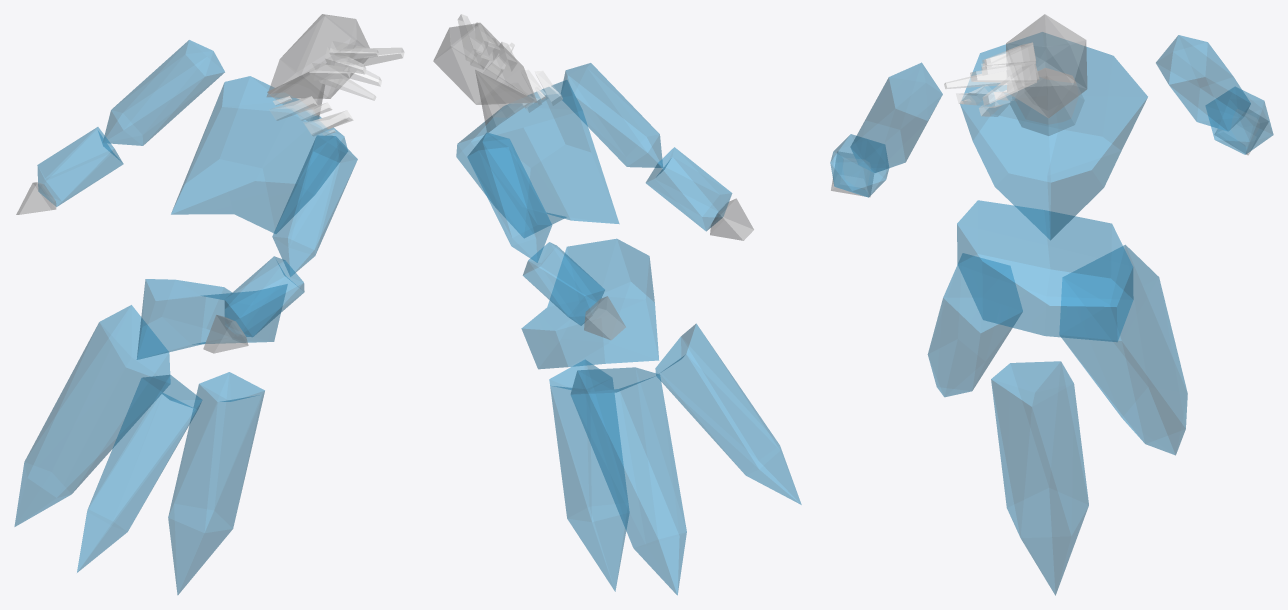
The model's file is ghostChargingLunge12.obj.
The picture shows the model from 3 angles, left to right: view 1: azimuth 30°, elevation 25°; view 2: azimuth 150°, elevation 25°; view 3: azimuth 270°, elevation 25°; orthographic projection. The views are drawn at different scales.
Visible parts, largest first — view 1: Cube.001_Cube.006, Icosphere.017, Icosphere.016, Icosphere.015, Cube_Cube.006, Icosphere.007_Icosphere.005, Icosphere.005_Icosphere.005, Icosphere.003_Icosphere.006, Icosphere.006_Icosphere.005, Icosphere.008_Icosphere.005, Cone_Cone.006, Cube.002_Cube.006 (+8 smaller); view 2: Cube.001_Cube.006, Icosphere.017, Cube_Cube.006, Icosphere.016, Icosphere.015, Icosphere.005_Icosphere.005, Icosphere.007_Icosphere.005, Icosphere.003_Icosphere.006, Icosphere.006_Icosphere.005, Icosphere.008_Icosphere.005, Cone_Cone.006, Cube.002_Cube.006 (+2 smaller); view 3: Cube.001_Cube.006, Cube_Cube.006, Icosphere.017, Icosphere.016, Icosphere.015, Icosphere.003_Icosphere.006, Icosphere.005_Icosphere.005, Icosphere.007_Icosphere.005, Icosphere.008_Icosphere.005, Cone_Cone.006, Icosphere.006_Icosphere.005, Cube.002_Cube.006 (+5 smaller).
Part boxes in pixels (box(x1,y1,x2,y2)): Cube.001_Cube.006: box(171, 76, 347, 233); Icosphere.017: box(14, 305, 170, 526); Icosphere.016: box(168, 372, 264, 594); Icosphere.015: box(77, 374, 202, 572); Cube_Cube.006: box(136, 279, 287, 359); Icosphere.007_Icosphere.005: box(103, 40, 224, 145); Icosphere.005_Icosphere.005: box(272, 135, 357, 276); Icosphere.003_Icosphere.006: box(266, 14, 369, 98); Icosphere.006_Icosphere.005: box(224, 256, 304, 337); Icosphere.008_Icosphere.005: box(37, 127, 123, 206); Cone_Cone.006: box(267, 63, 327, 121); Cube.002_Cube.006: box(203, 315, 248, 353); Cube.001_Cube.006: box(456, 80, 619, 237); Icosphere.017: box(570, 367, 686, 595); Cube_Cube.006: box(521, 238, 658, 369); Icosphere.016: box(549, 360, 629, 591); Icosphere.015: box(655, 323, 801, 504); Icosphere.005_Icosphere.005: box(561, 63, 662, 167); Icosphere.007_Icosphere.005: box(467, 132, 552, 262); Icosphere.003_Icosphere.006: box(433, 23, 537, 104); Icosphere.006_Icosphere.005: box(646, 147, 732, 231); Icosphere.008_Icosphere.005: box(523, 242, 604, 325); Cone_Cone.006: box(475, 70, 530, 132); Cube.002_Cube.006: box(710, 198, 753, 240); Cube.001_Cube.006: box(960, 32, 1147, 240); Cube_Cube.006: box(957, 200, 1133, 341); Icosphere.017: box(1059, 245, 1187, 455); Icosphere.016: box(991, 361, 1088, 595); Icosphere.015: box(927, 253, 1022, 396); Icosphere.003_Icosphere.006: box(1006, 14, 1087, 118); Icosphere.005_Icosphere.005: box(850, 62, 942, 172); Icosphere.007_Icosphere.005: box(1156, 35, 1250, 131); Icosphere.008_Icosphere.005: box(1206, 87, 1273, 154); Cone_Cone.006: box(1010, 68, 1084, 135); Icosphere.006_Icosphere.005: box(830, 134, 888, 197); Cube.002_Cube.006: box(831, 151, 873, 196).
Size of the model in its own units: 30.96 by 47.58 by 28.66.
